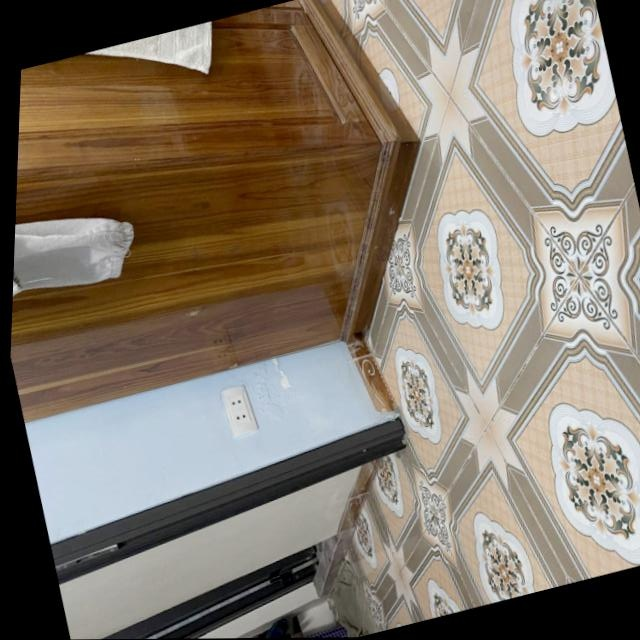outlet: (217, 384, 260, 440)
